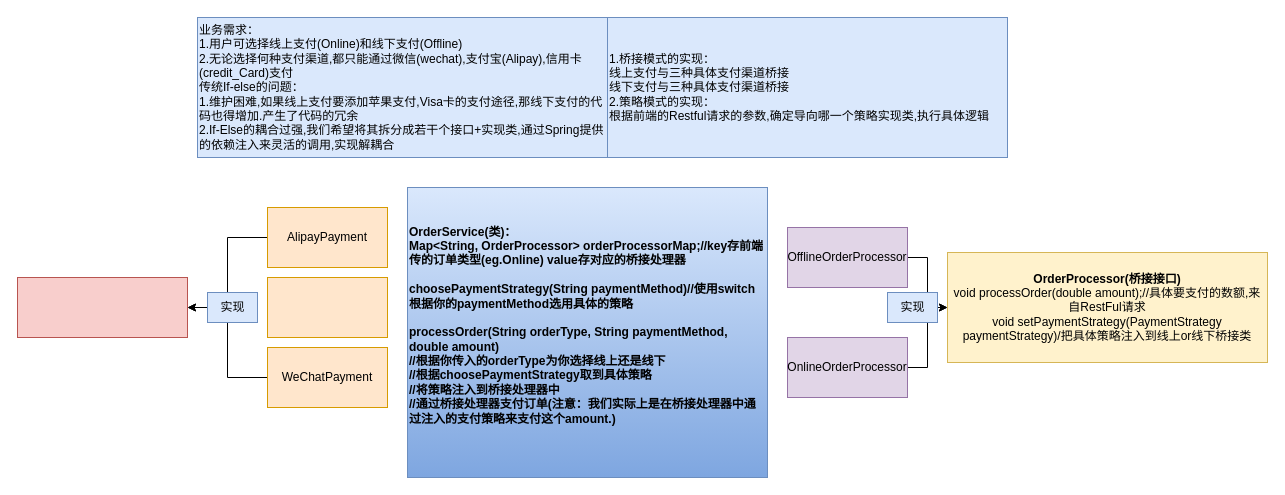
The diagram is 1285 pixels wide and 495 high, and some of its shapes have lost their labels. Here are the shapes that lost their labels. From the top down, the centre of each, then its label:
At [102,307]: "PaymentStrategy (策略接口) void pay(double amount)".
At [327,307]: "CreditCardPayment".
